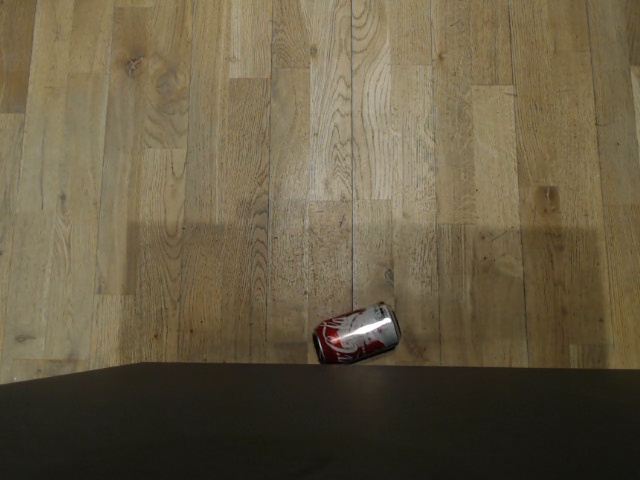cola: (311, 298, 400, 366)
